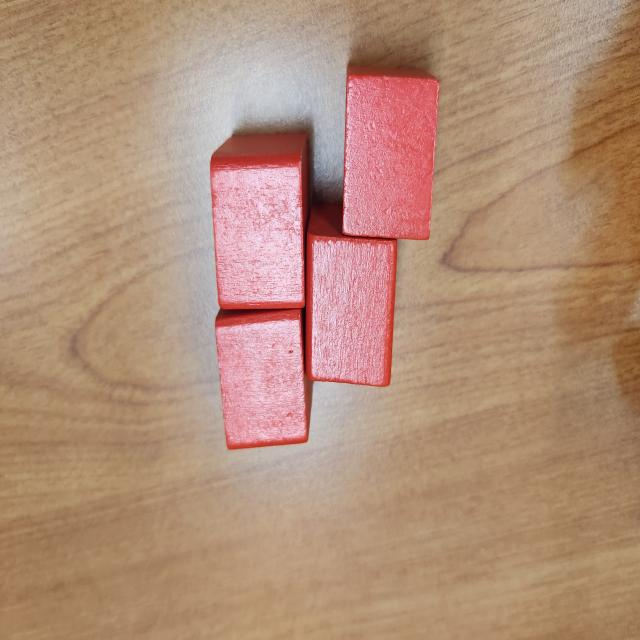red: (210, 133, 310, 312), (304, 201, 398, 389), (342, 66, 439, 241), (215, 307, 314, 448)
